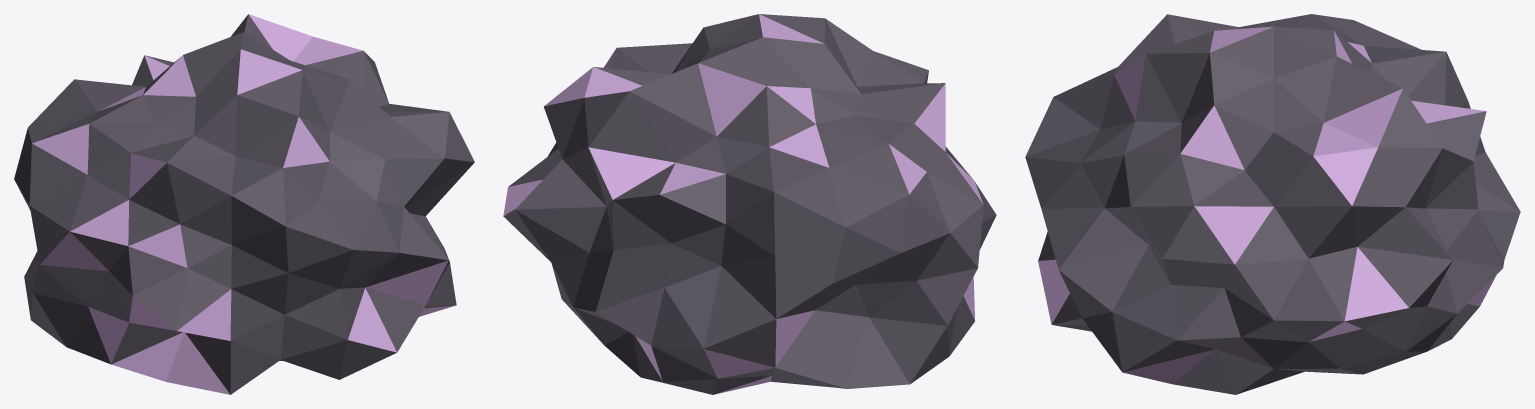
Rendered from meteorite.glb.
3 renders of one model, left to right at view 1: azimuth 30°, elevation 25°; view 2: azimuth 150°, elevation 25°; view 3: azimuth 270°, elevation 25°, orthographic. The views are drawn at different scales.
Visible parts, largest first — view 1: meteorite; view 2: meteorite; view 3: meteorite.
Part boxes in pixels (left/top/right/bottom): meteorite: left=14, top=14, right=474, bottom=394; meteorite: left=503, top=14, right=996, bottom=394; meteorite: left=1025, top=14, right=1520, bottom=394.
Size of the model in its own units: 2.12 by 1.33 by 2.03.
